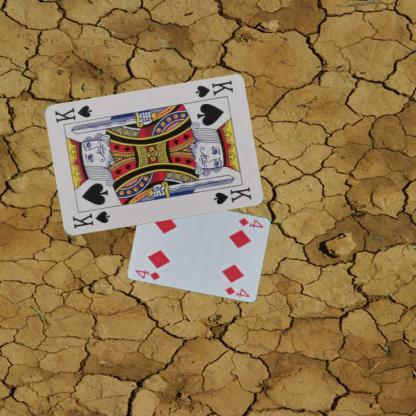4d: (236, 215, 265, 229), (133, 267, 161, 281)
Ks: (69, 209, 111, 230), (192, 78, 234, 99)
